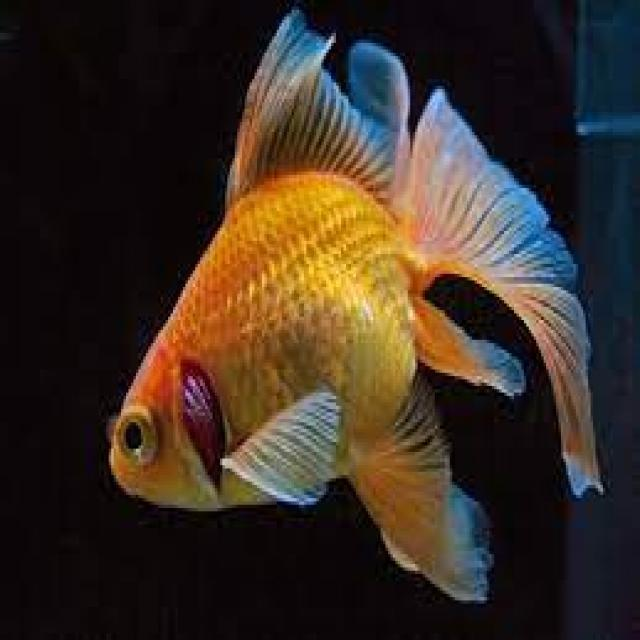Gill Disease: (107, 313, 390, 559)
